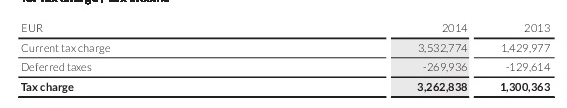table: (0, 0, 567, 108)
